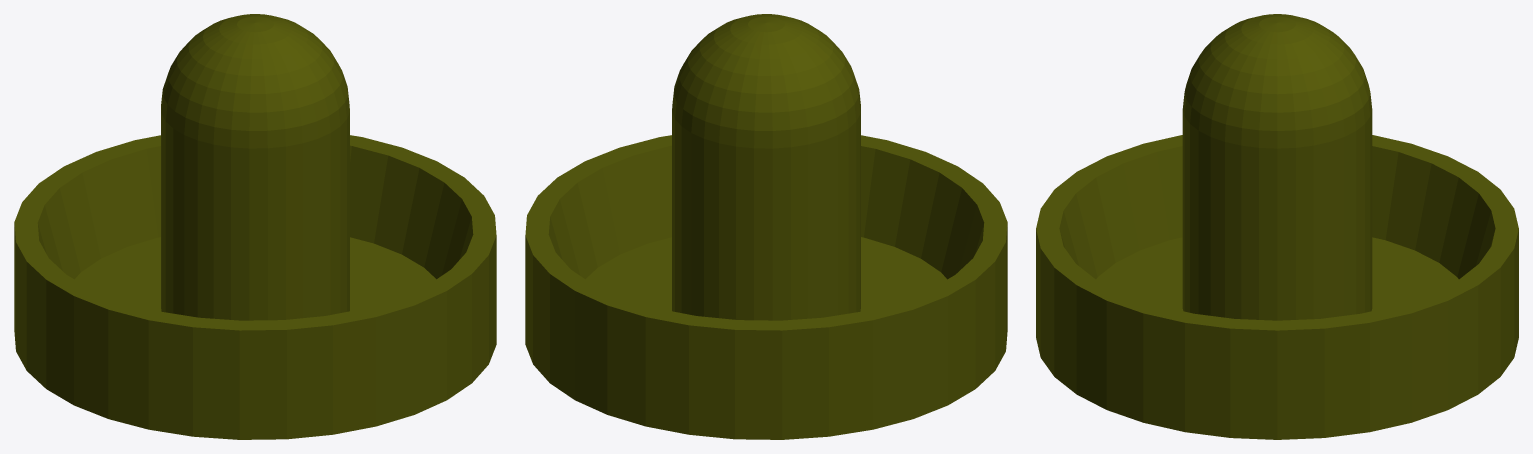
File: paddle.obj
3 views of the same model, side by side, from view 1: azimuth 30°, elevation 25°; view 2: azimuth 150°, elevation 25°; view 3: azimuth 270°, elevation 25° (orthographic).
Visible parts, largest first — view 1: Mesh_Cylinder; view 2: Mesh_Cylinder; view 3: Mesh_Cylinder.
Boxes of the visible parts, box(x1,y1,x2,y2) form: Mesh_Cylinder: box(14, 14, 496, 439); Mesh_Cylinder: box(525, 14, 1007, 439); Mesh_Cylinder: box(1036, 14, 1518, 439).
Bounding box in the file's own units: 2 × 1.44 × 2.
